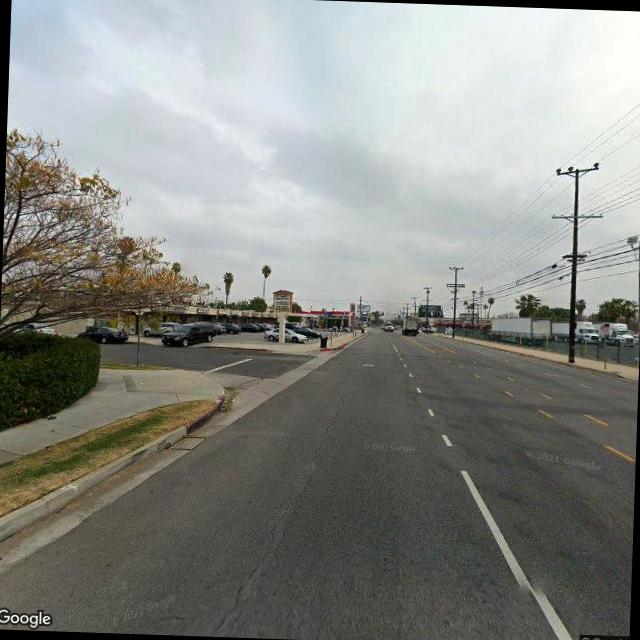pothole: (226, 383, 349, 614)
